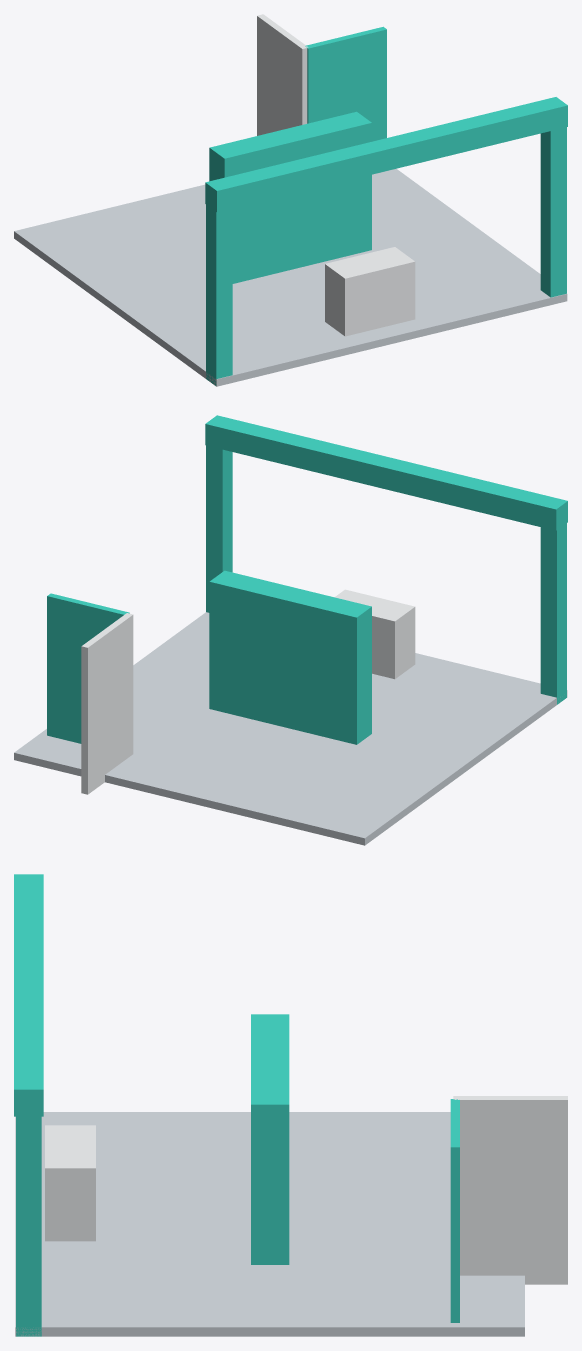
The picture shows the model from 3 angles, top to bottom: view 1: azimuth 30°, elevation 25°; view 2: azimuth 150°, elevation 25°; view 3: azimuth 270°, elevation 25°; orthographic projection. The views are drawn at different scales.
Parts seen in each view (by area): view 1: Exhibition Booth Concept; view 2: Exhibition Booth Concept; view 3: Exhibition Booth Concept.
Part boxes in pixels (<box>): Exhibition Booth Concept: <box>14,14,567,386</box>; Exhibition Booth Concept: <box>14,415,567,845</box>; Exhibition Booth Concept: <box>14,874,567,1336</box>.
Size of the model in its own units: 6 by 3.2 by 6.52.
